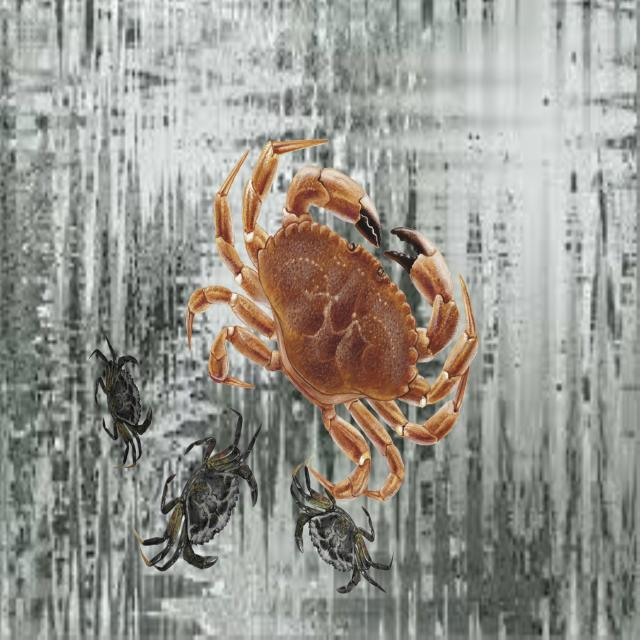European_Green_Crab: (123, 388, 283, 607), (271, 453, 403, 620), (72, 316, 171, 480)
